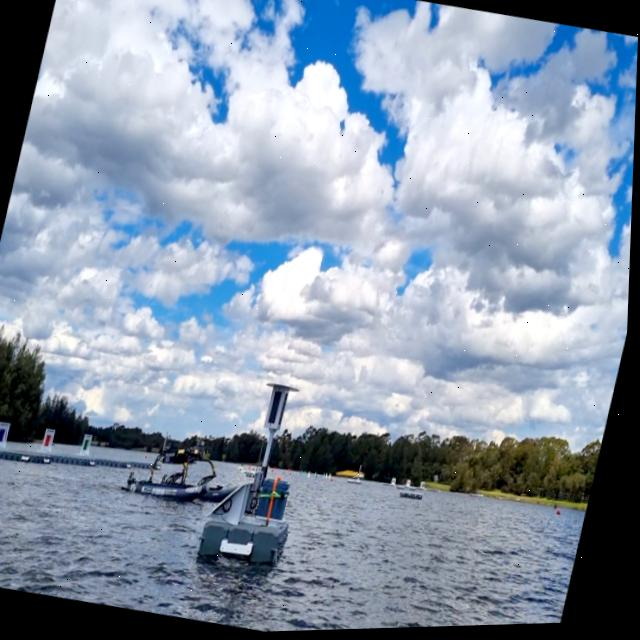led: (269, 391, 287, 429)
